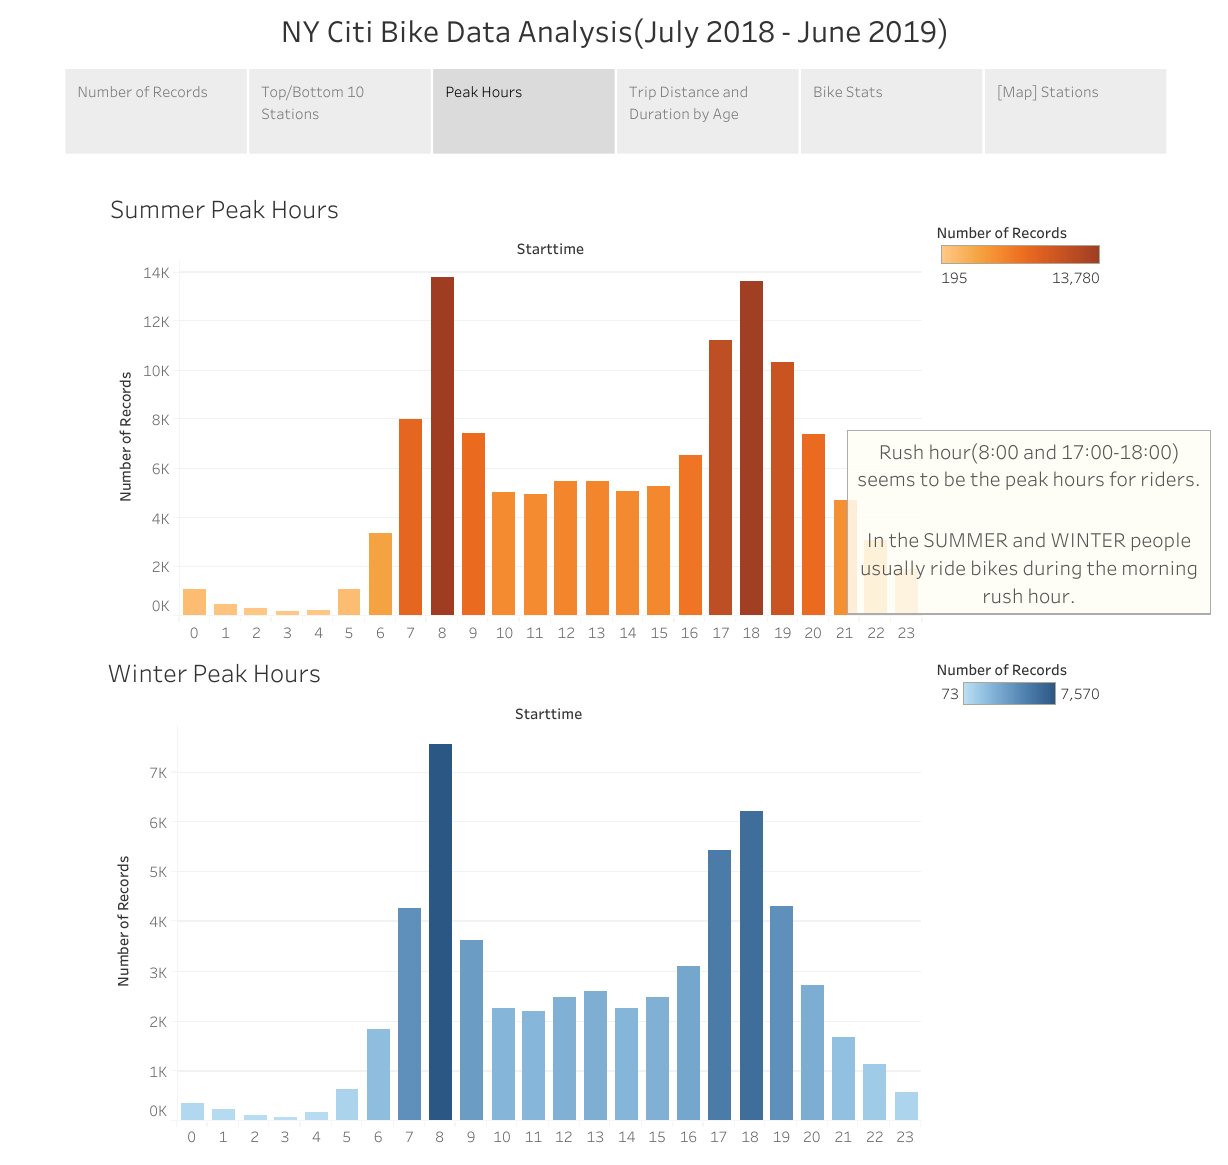

This screenshot's page, from the dashboard's own definition file:
{"tool":"tableau","page":{"name":"Peak Hours","canvas":[1000,1000],"units":"permille","ordinal":3},"visuals":[{"type":"worksheet","title":"Summer Peak Hours","mark":"Bar","rows":["Calculation_2171298008309485579"],"cols":["starttime"],"box":[4.7,10.5,794.1,466.7]},{"type":"legend","title":"Summer Peak Hours","param":"[federated.06t6mmk1ta8xqx1g6an2d0cdsx3z].[sum:Calculation_2171298008309485579:qk","box":[812.9,44.3,164.7,88.7]},{"type":"worksheet","title":"Winter Peak Hours","mark":"Bar","rows":["Calculation_2171298008309485579"],"cols":["starttime"],"box":[2.4,483.1,795.3,507.6]},{"type":"legend","title":"Winter Peak Hours","param":"[federated.06t6mmk1ta8xqx1g6an2d0cdsx3z].[sum:Calculation_2171298008309485579:qk","box":[812.9,487.8,164.7,88.7]}]}

Visuals, with their boxes on the dashboard's canvas, which has no fixed pixel size, in thousandths of its width and height (x1, y1, x2, y2). These are canvas units, not pixel positions in the 1228x1165 screenshot, which may show the page scaled, cropped or inside an application window:
"Summer Peak Hours" worksheet (Bar marks): BBox(5, 10, 799, 477)
"Summer Peak Hours" legend: BBox(813, 44, 978, 133)
"Winter Peak Hours" worksheet (Bar marks): BBox(2, 483, 798, 991)
"Winter Peak Hours" legend: BBox(813, 488, 978, 576)
